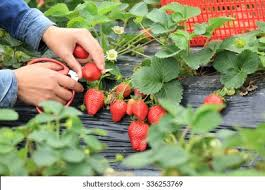ripe: (127, 121, 150, 151), (83, 87, 105, 115), (109, 95, 128, 120), (80, 63, 102, 81), (133, 98, 149, 122), (146, 104, 165, 124), (204, 92, 225, 108), (115, 79, 130, 97), (72, 45, 90, 58)
